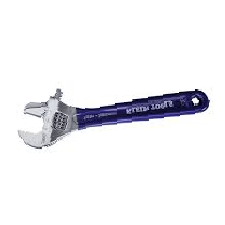Wrench: (12, 72, 219, 154)
